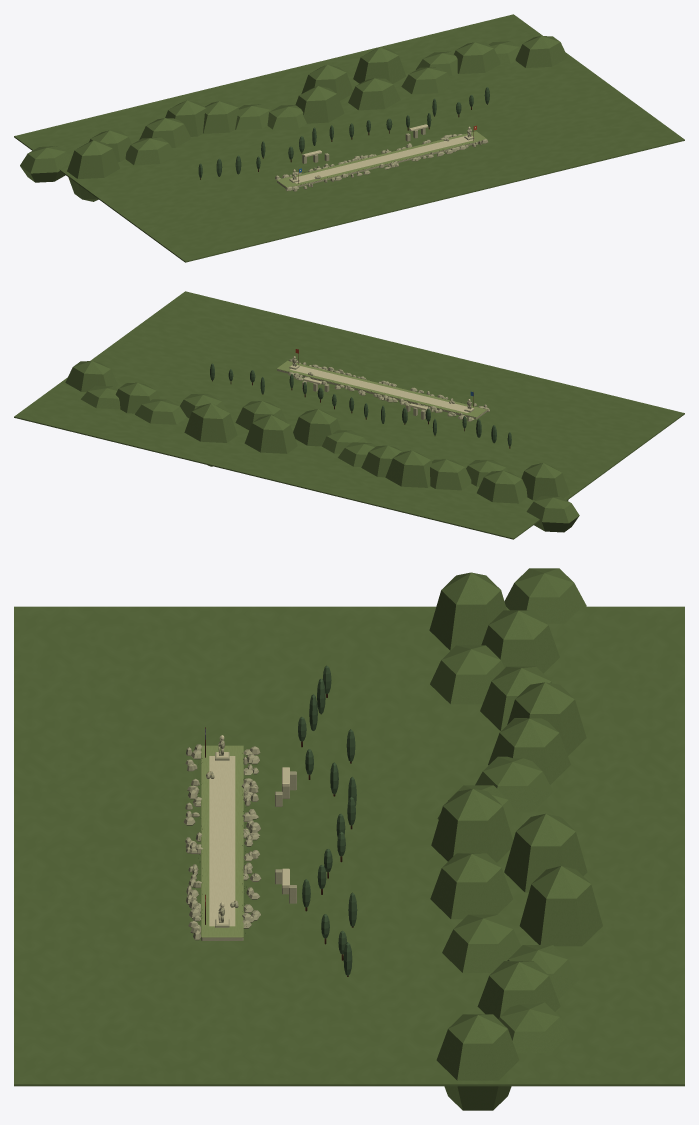
Rendered from arena.glb.
3 views of the same model, one above another, from view 1: azimuth 30°, elevation 25°; view 2: azimuth 150°, elevation 25°; view 3: azimuth 270°, elevation 25° (orthographic). The views are drawn at different scales.
Parts seen in each view (by area): view 1: Limestone ridge scenery; view 2: Limestone ridge scenery; view 3: Limestone ridge scenery.
Part boxes in pixels (bbox=[...]): Limestone ridge scenery: bbox=[14, 14, 684, 262]; Limestone ridge scenery: bbox=[14, 291, 684, 539]; Limestone ridge scenery: bbox=[14, 568, 684, 1110].
Size of the model in its own units: 168 by 19.5 by 95.01.
Materials: 1 (1 with a texture image).
